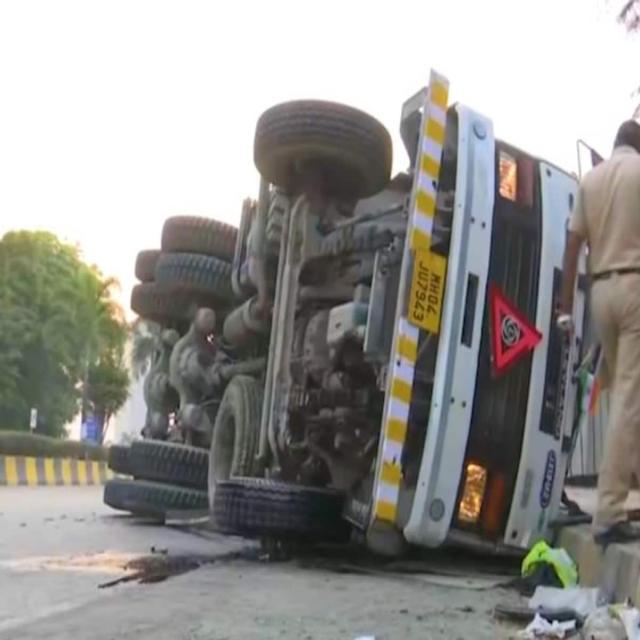accident: (104, 72, 588, 552)
